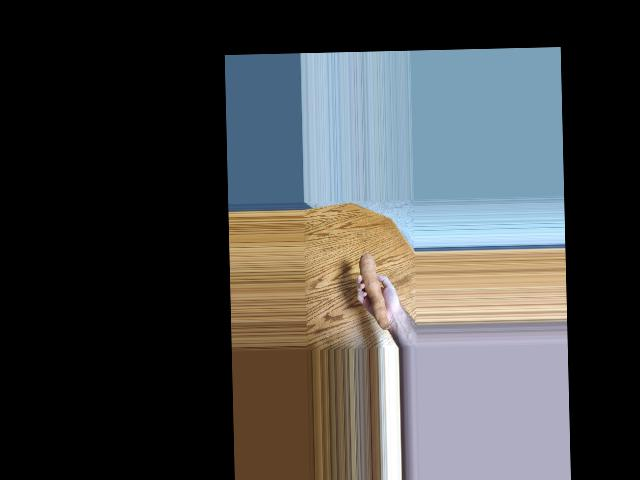sweet_potato: (357, 251, 387, 327)
